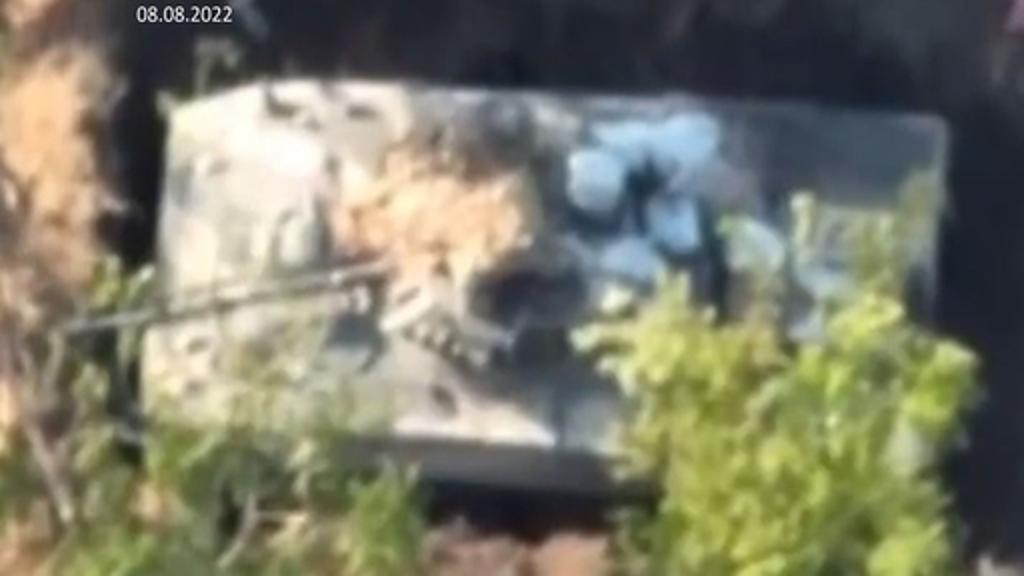APC-IFV: (110, 60, 956, 516)
